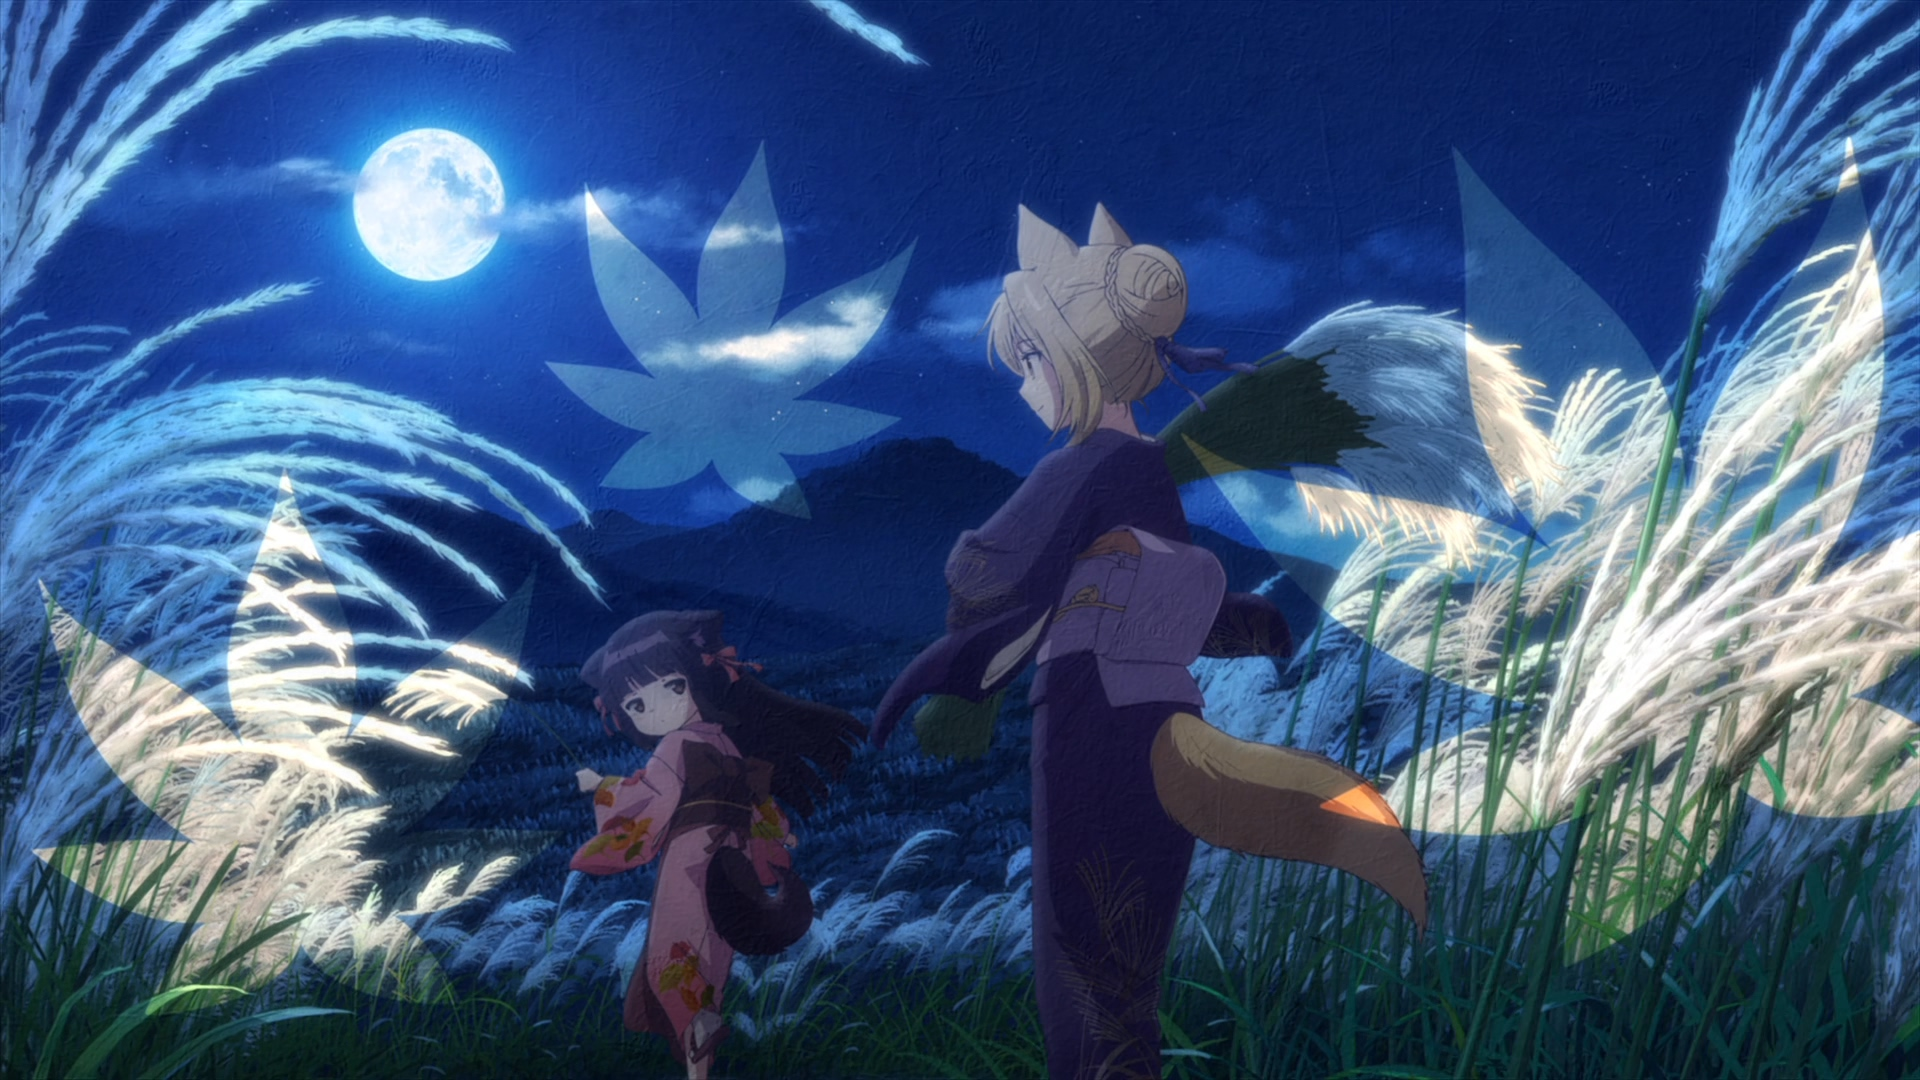桐: (872, 200, 1425, 1080)
樱: (568, 609, 865, 1080)
